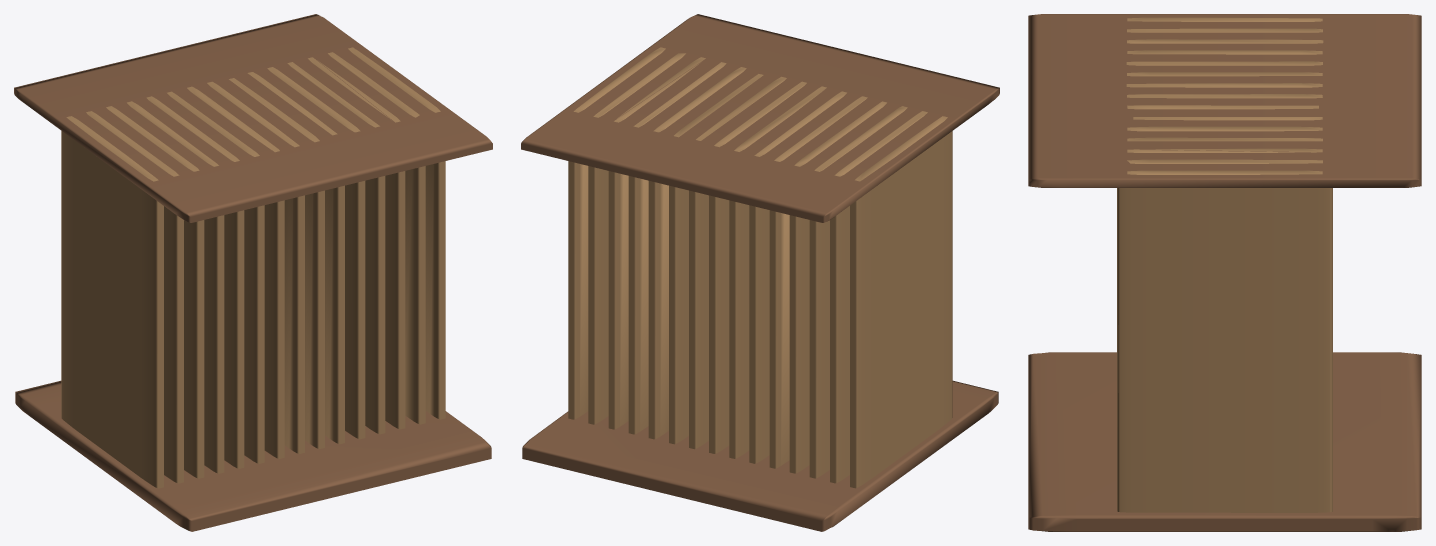
The model's file is studio-divider-oak.lod.glb.
3 renders of one model, left to right at view 1: azimuth 30°, elevation 25°; view 2: azimuth 150°, elevation 25°; view 3: azimuth 270°, elevation 25°, orthographic. The views are drawn at different scales.
Parts seen in each view (by area): view 1: divider-slat, upholstery; view 2: divider-slat, upholstery; view 3: upholstery, divider-slat.
Boxes of the visible parts, bbox=[...] form: divider-slat: bbox=[61, 47, 445, 488]; upholstery: bbox=[14, 14, 492, 531]; divider-slat: bbox=[568, 47, 952, 488]; upholstery: bbox=[521, 14, 999, 531]; upholstery: bbox=[1028, 14, 1421, 531]; divider-slat: bbox=[1117, 17, 1332, 512].
Size of the model in its own units: 1 by 1 by 1.
